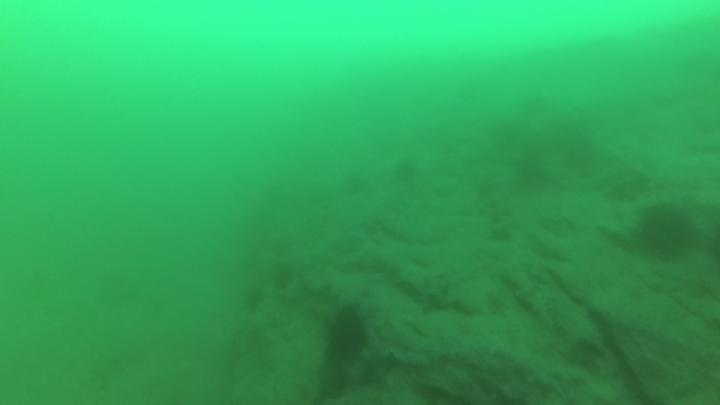echinus: (634, 201, 699, 263), (323, 303, 371, 364), (269, 259, 298, 292), (239, 282, 268, 314), (390, 156, 421, 185)
